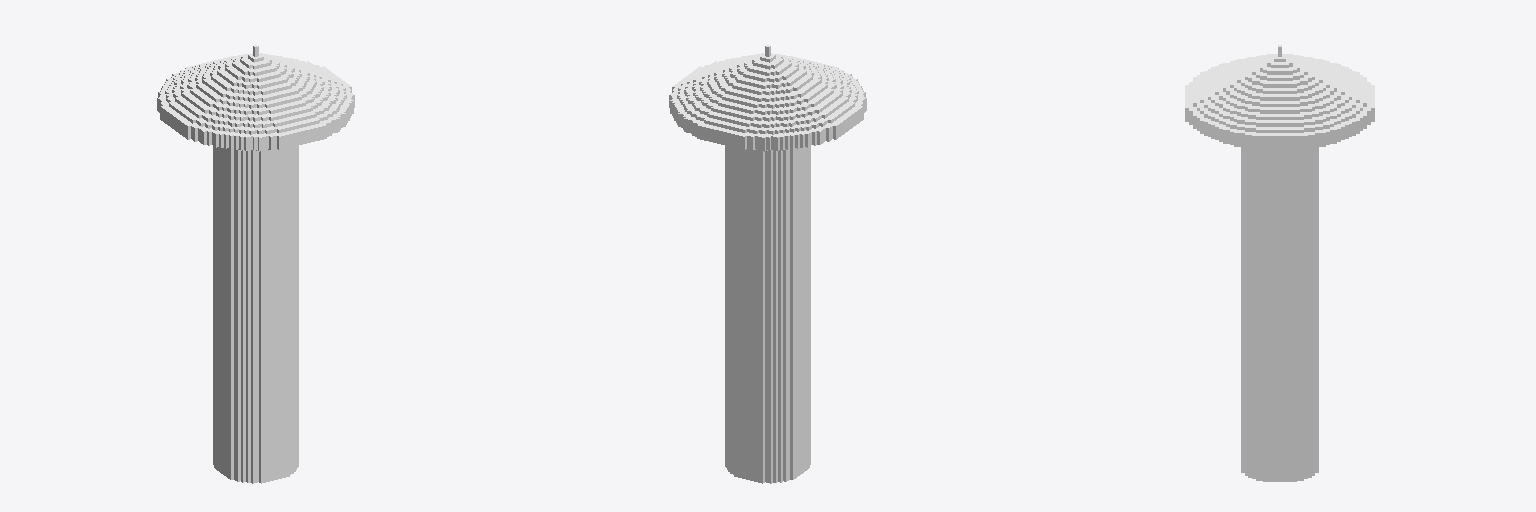
The model's file is burjkalifa.obj.
The picture shows the model from 3 angles: view 1: azimuth 30°, elevation 25°; view 2: azimuth 150°, elevation 25°; view 3: azimuth 270°, elevation 25°; orthographic projection.
Bounding box in the file's own units: 51 × 125 × 51.